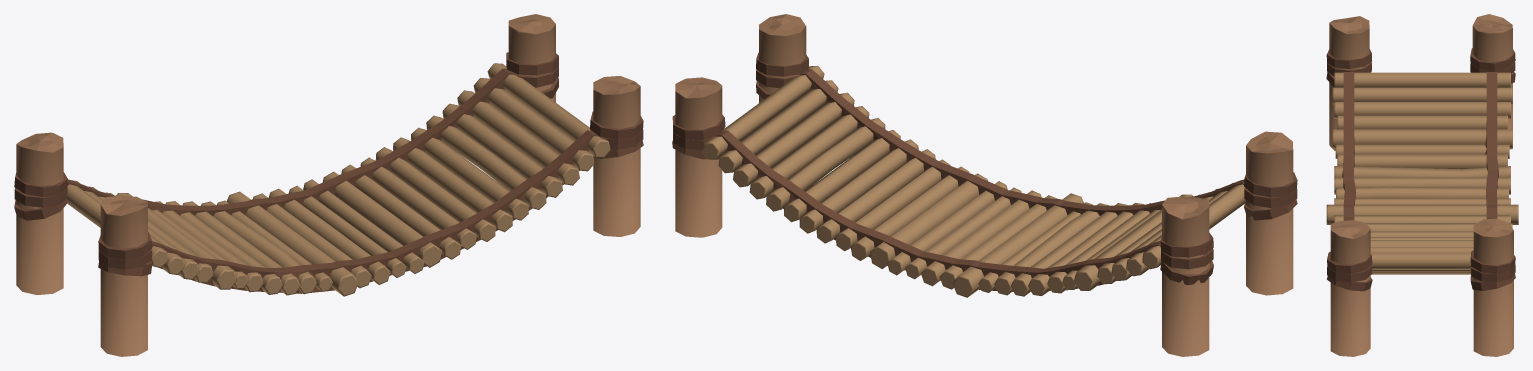
Rendered from Ponte.gltf.
3 renders of one model, left to right at view 1: azimuth 30°, elevation 25°; view 2: azimuth 150°, elevation 25°; view 3: azimuth 270°, elevation 25°, orthographic. The views are drawn at different scales.
Parts seen in each view (by area): view 1: Corda; view 2: Corda; view 3: Corda.
Part boxes in pixels (x1,y1,x2,y2): Corda: (14, 14, 643, 356); Corda: (672, 14, 1297, 356); Corda: (1326, 14, 1518, 356).
Size of the model in its own units: 4.65 by 1.2 by 1.7.
